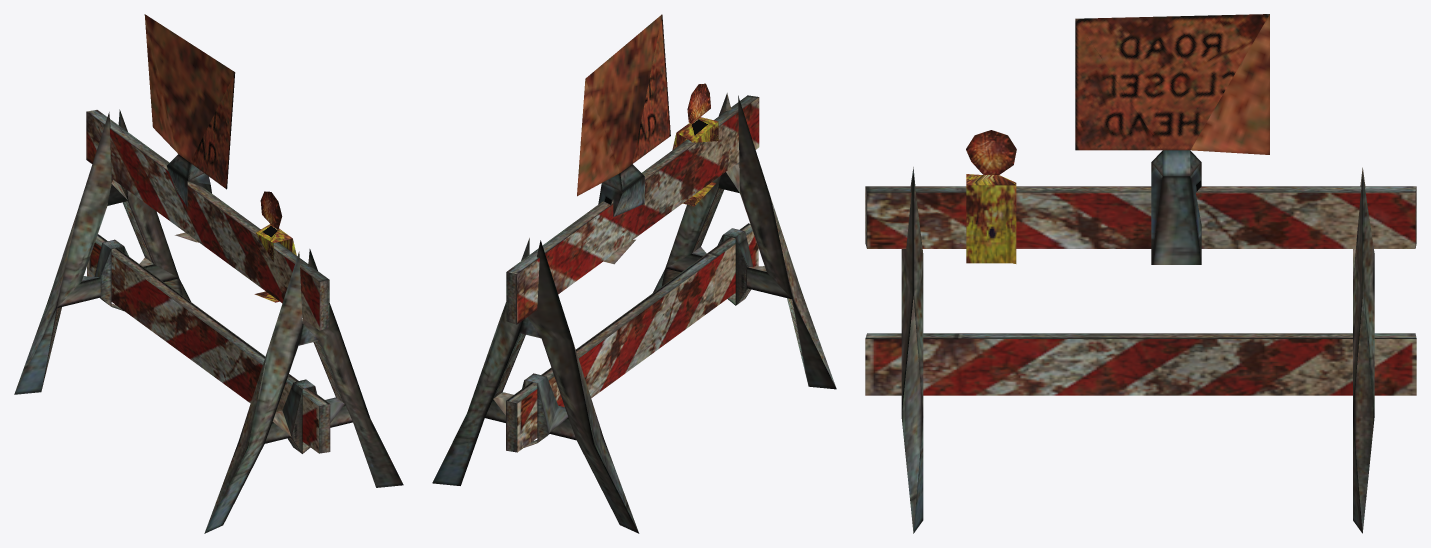
File: road closer.FBX
The picture shows the model from 3 angles, left to right: view 1: azimuth 30°, elevation 25°; view 2: azimuth 150°, elevation 25°; view 3: azimuth 270°, elevation 25°; orthographic projection. The views are drawn at different scales.
Parts seen in each view (by area): view 1: Baricade; view 2: Baricade; view 3: Baricade.
Boxes of the visible parts, left/top/right/bottom form: Baricade: left=14, top=14, right=403, bottom=533; Baricade: left=432, top=14, right=836, bottom=533; Baricade: left=865, top=14, right=1416, bottom=533.
Bounding box in the file's own units: 38.1 × 70.66 × 77.16.
